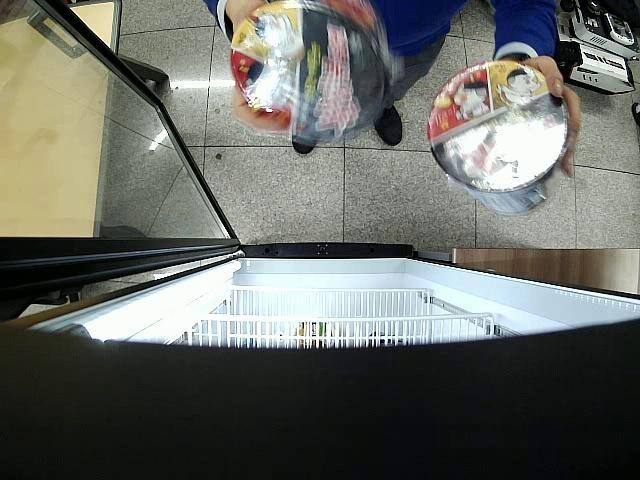07_buldak_L: (231, 0, 391, 144), (428, 60, 570, 216)
